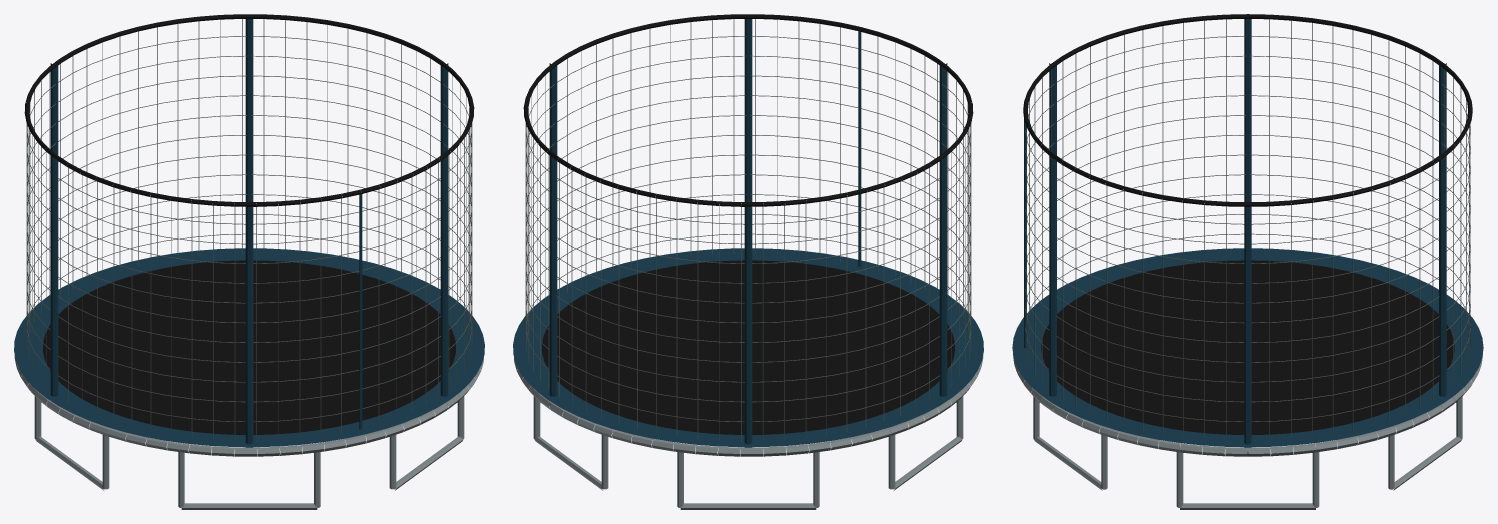
File: garden_trampoline.glb
3 renders of one model, left to right at view 1: azimuth 30°, elevation 25°; view 2: azimuth 150°, elevation 25°; view 3: azimuth 270°, elevation 25°, orthographic.
Parts seen in each view (by area): view 1: garden_trampoline; view 2: garden_trampoline; view 3: garden_trampoline.
Boxes of the visible parts, x1,y1,x2,y2 form: garden_trampoline: (14, 14, 484, 509); garden_trampoline: (513, 14, 983, 509); garden_trampoline: (1012, 14, 1483, 509).
Bounding box in the file's own units: 3.6 × 2.65 × 3.6.
